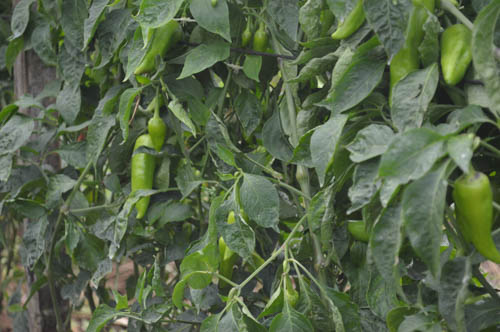ChiliPepper: (456, 178, 499, 255), (390, 7, 432, 82), (131, 22, 179, 82), (439, 26, 475, 95), (127, 135, 152, 221), (142, 115, 166, 148)
